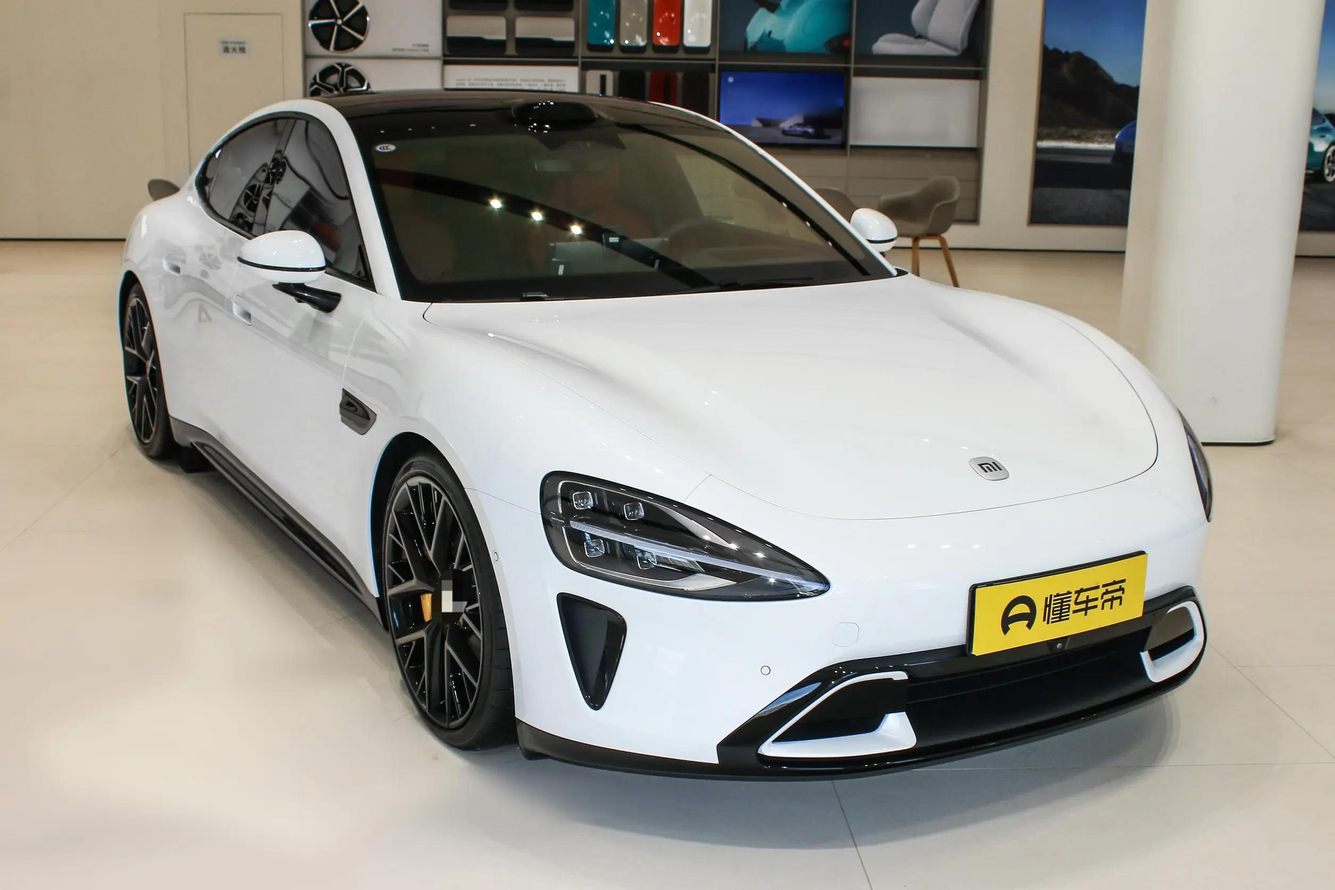XIAOMI: (969, 456, 1009, 480)
